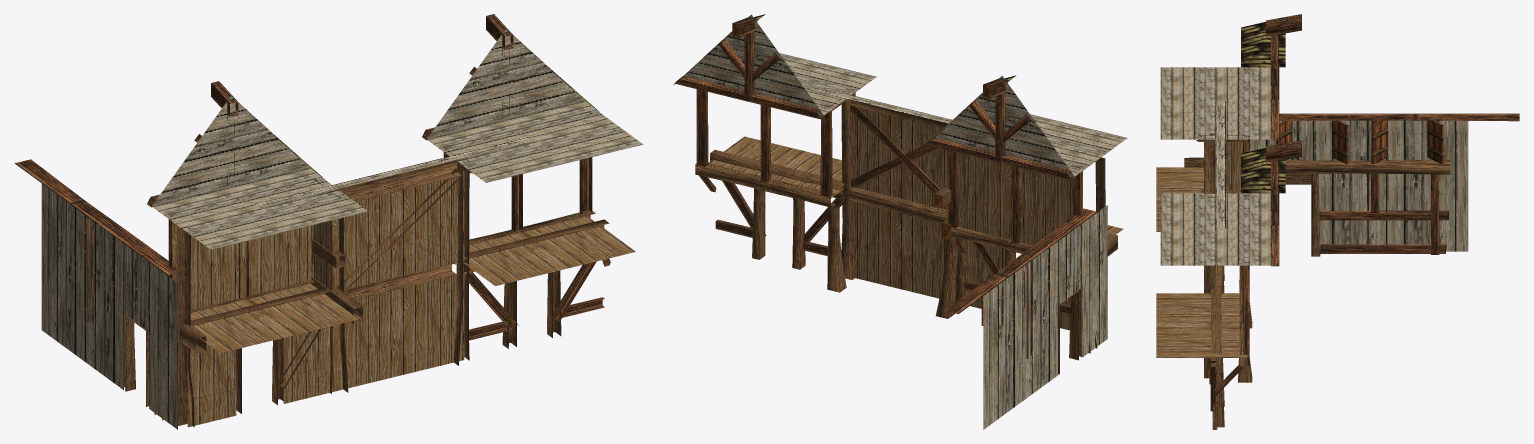
Rendered from LAKETOWN_EXTERIOR_PS_LT_ENTRANCE84847__GX.fbx.
The picture shows the model from 3 angles, left to right: view 1: azimuth 30°, elevation 25°; view 2: azimuth 150°, elevation 25°; view 3: azimuth 270°, elevation 25°; orthographic projection. The views are drawn at different scales.
Parts seen in each view (by area): view 1: LAKETOWN_EXTERIOR_PS_LT_ENTRANCE84847__GX; view 2: LAKETOWN_EXTERIOR_PS_LT_ENTRANCE84847__GX; view 3: LAKETOWN_EXTERIOR_PS_LT_ENTRANCE84847__GX.
Boxes of the visible parts, left/top/right/bottom form: LAKETOWN_EXTERIOR_PS_LT_ENTRANCE84847__GX: left=15, top=14, right=643, bottom=429; LAKETOWN_EXTERIOR_PS_LT_ENTRANCE84847__GX: left=673, top=14, right=1127, bottom=429; LAKETOWN_EXTERIOR_PS_LT_ENTRANCE84847__GX: left=1156, top=14, right=1519, bottom=429.
Bounding box in the file's own units: 139906 × 88493 × 106147.
Materials: 8 (8 with a texture image).
